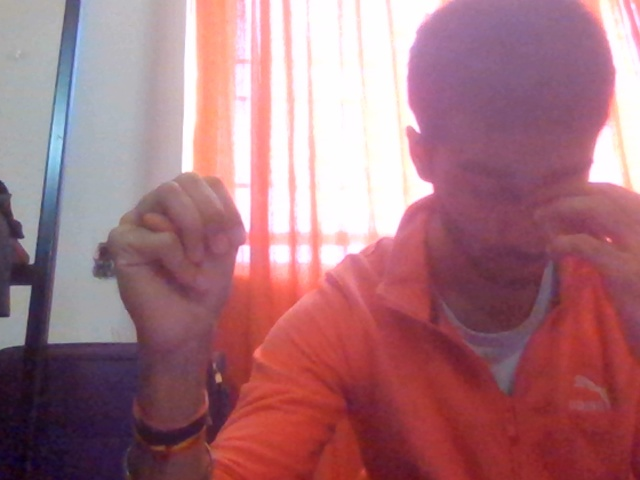M: (80, 145, 319, 457)
